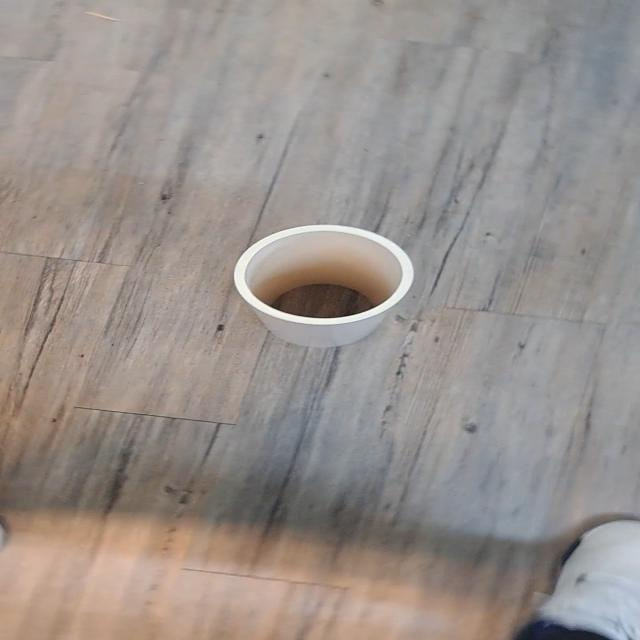CORAL: (211, 212, 430, 376)
